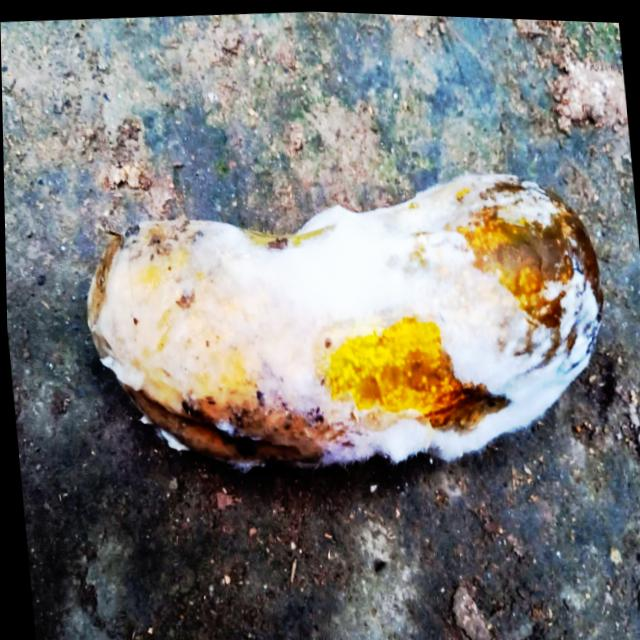Pythium-Fruit-Rot: (75, 144, 610, 491)
